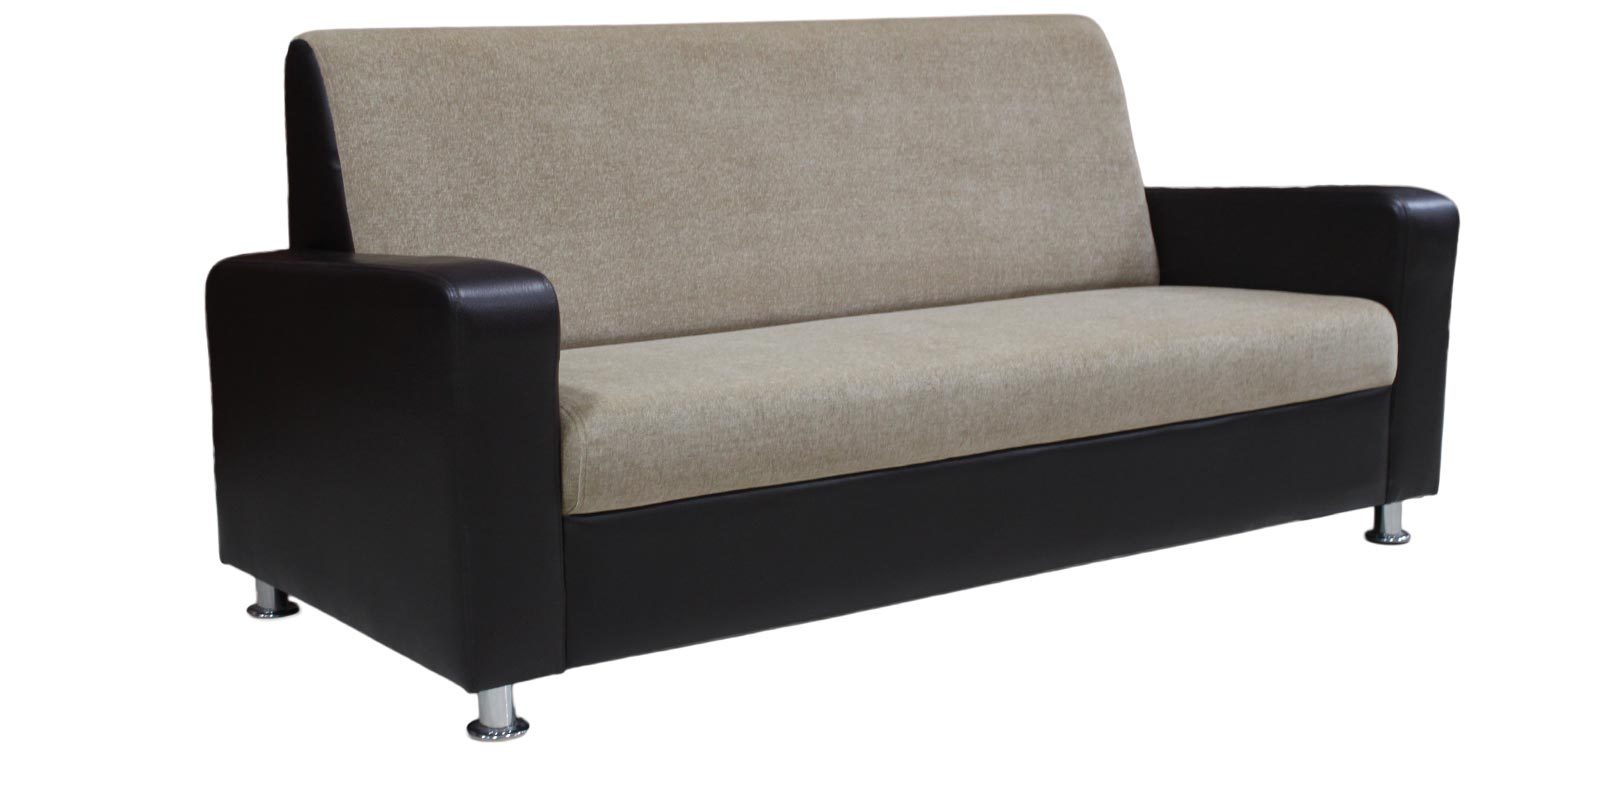New Ciara Three Seater Sofa in Dual Tone by Crystal Furnitech: (203, 11, 1459, 739)
